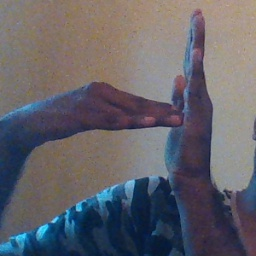Z: (127, 3, 224, 181)
